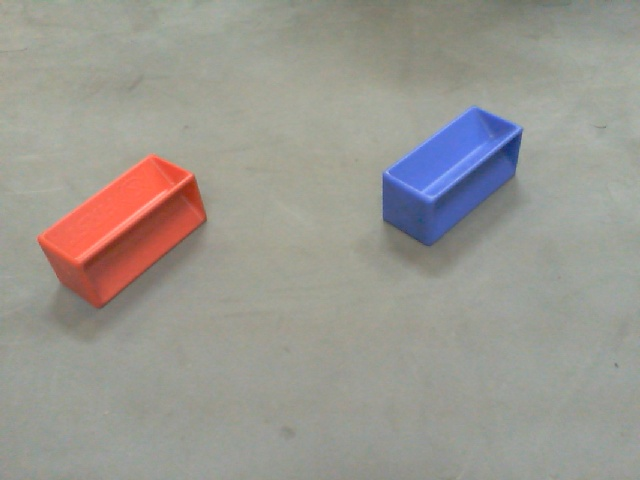BlueSample: (377, 103, 525, 253)
RedSample: (28, 147, 217, 315)
